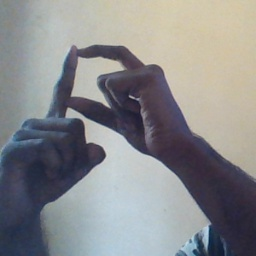D: (27, 34, 169, 172)
